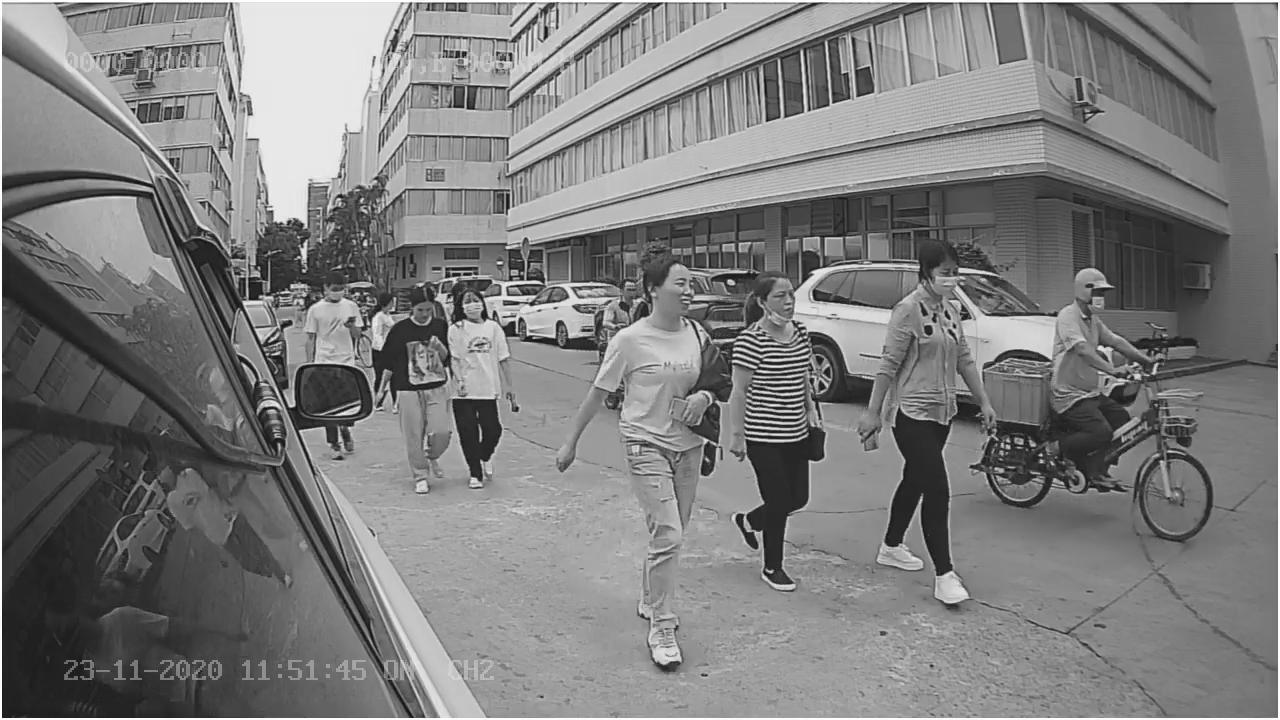person: (554, 256, 728, 664), (851, 220, 997, 614), (372, 283, 455, 492), (1056, 257, 1166, 374)
